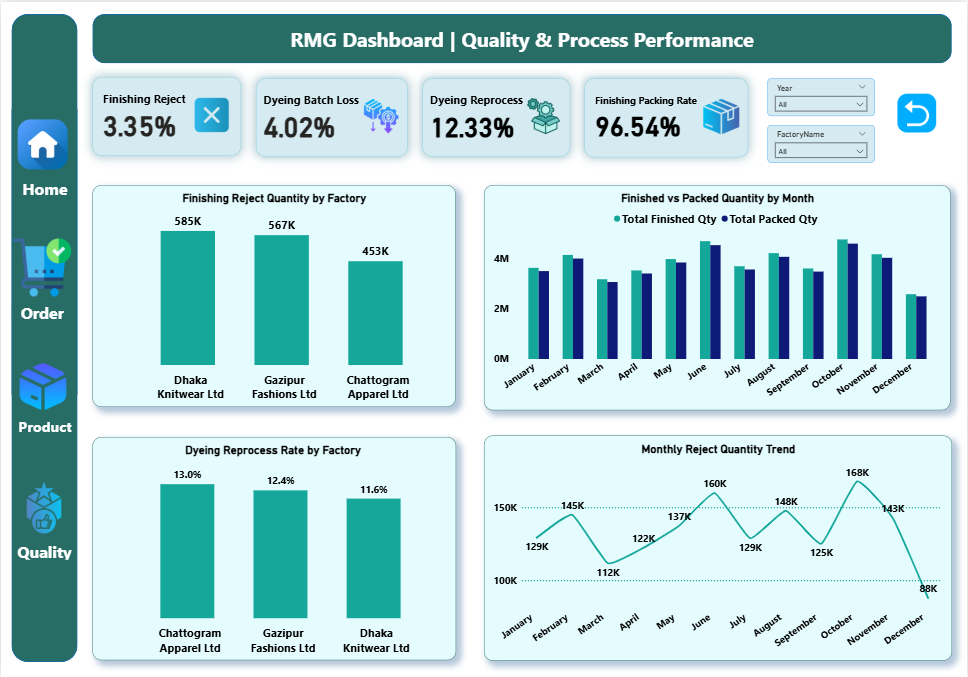

The dashboard page shown, as its layout file describes it:
{"tool":"powerbi","page":{"name":"Quality","canvas":[1610,1130],"ordinal":3},"visuals":[{"type":"cardVisual","fields":{"Data":["Measure.Finishing Reject %"]},"box":[152.9,125.7,247.1,131.4],"z":0},{"type":"cardVisual","fields":{"Data":["Measure.Finishing Packing Rate %"]},"box":[971.4,128.6,272.9,131.4],"z":1000},{"type":"cardVisual","fields":{"Data":["Measure.Dyeing Batch Loss %"]},"box":[424.3,128.6,252.9,130],"z":2000},{"type":"cardVisual","fields":{"Data":["Measure.Dyeing Reprocess %"]},"box":[701.4,128.6,245.7,130],"z":3000},{"type":"shape","box":[152,20,1432,82],"z":4000},{"type":"shape","box":[17.5,20,110,1080],"z":5000},{"type":"clusteredColumnChart","title":"Finished vs Packed Quantity by Month","fields":{"Category":["dim_date.MonthName"],"Y":["Measure.Total Finished Qty","Measure.Total Packed Qty"]},"box":[805,305,777.5,375],"z":6000},{"type":"clusteredColumnChart","title":"Dyeing Reprocess Rate by Factory","fields":{"Category":["dim_factory.FactoryName"],"Y":["Measure.Reprocess %"]},"box":[152,726,606,372],"z":7000},{"type":"slicer","fields":{"Values":["dim_date.Year"]},"box":[1276.2,126.2,178.8,62.5],"z":8000},{"type":"slicer","fields":{"Values":["dim_factory.FactoryName"]},"box":[1276.2,205,178.8,62.5],"z":9000},{"type":"image","box":[1478.8,146.2,92.5,75],"z":10000},{"type":"clusteredColumnChart","title":"Finishing Reject Quantity by Factory","fields":{"Category":["dim_factory.FactoryName"],"Y":["Measure.Total Reject Qty"]},"box":[152.5,305,605,370],"z":11000},{"type":"lineChart","title":"Monthly Reject Quantity Trend","fields":{"Category":["dim_date.MonthName"],"Y":["Measure.Total Reject Qty"]},"box":[805,722.5,780,375],"z":12000},{"type":"image","box":[23.3,185,93.3,105],"z":12001},{"type":"shape","box":[21.4,290,101.4,38.6],"z":12002},{"type":"shape","box":[18.6,498.6,102.9,40],"z":12003},{"type":"shape","box":[22.3,893.8,100,37.7],"z":12004},{"type":"shape","box":[22,688,102,38],"z":12005},{"type":"image","box":[15.7,388.6,107.1,110],"z":12006},{"type":"image","box":[20,591.4,100,97.1],"z":12007},{"type":"image","box":[20,790,102.9,104.3],"z":12008}]}

Visuals, with their boxes in screenshot pixels (x1, y1, x2, y2), scaled from the page's 1610x1130 canvas onto the 968x677 screenshot:
cardVisual - Measure.Finishing Reject %: pyautogui.locateOnScreen(92, 75, 240, 154)
cardVisual - Measure.Finishing Packing Rate %: pyautogui.locateOnScreen(584, 77, 748, 156)
cardVisual - Measure.Dyeing Batch Loss %: pyautogui.locateOnScreen(255, 77, 407, 155)
cardVisual - Measure.Dyeing Reprocess %: pyautogui.locateOnScreen(422, 77, 569, 155)
shape: pyautogui.locateOnScreen(91, 12, 952, 61)
shape: pyautogui.locateOnScreen(11, 12, 77, 659)
"Finished vs Packed Quantity by Month" clusteredColumnChart: pyautogui.locateOnScreen(484, 183, 951, 407)
"Dyeing Reprocess Rate by Factory" clusteredColumnChart: pyautogui.locateOnScreen(91, 435, 456, 658)
slicer - dim_date.Year: pyautogui.locateOnScreen(767, 76, 875, 113)
slicer - dim_factory.FactoryName: pyautogui.locateOnScreen(767, 123, 875, 160)
image: pyautogui.locateOnScreen(889, 88, 945, 133)
"Finishing Reject Quantity by Factory" clusteredColumnChart: pyautogui.locateOnScreen(92, 183, 455, 404)
"Monthly Reject Quantity Trend" lineChart: pyautogui.locateOnScreen(484, 433, 953, 658)
image: pyautogui.locateOnScreen(14, 111, 70, 174)
shape: pyautogui.locateOnScreen(13, 174, 74, 197)
shape: pyautogui.locateOnScreen(11, 299, 73, 323)
shape: pyautogui.locateOnScreen(13, 535, 74, 558)
shape: pyautogui.locateOnScreen(13, 412, 75, 435)
image: pyautogui.locateOnScreen(9, 233, 74, 299)
image: pyautogui.locateOnScreen(12, 354, 72, 412)
image: pyautogui.locateOnScreen(12, 473, 74, 536)
